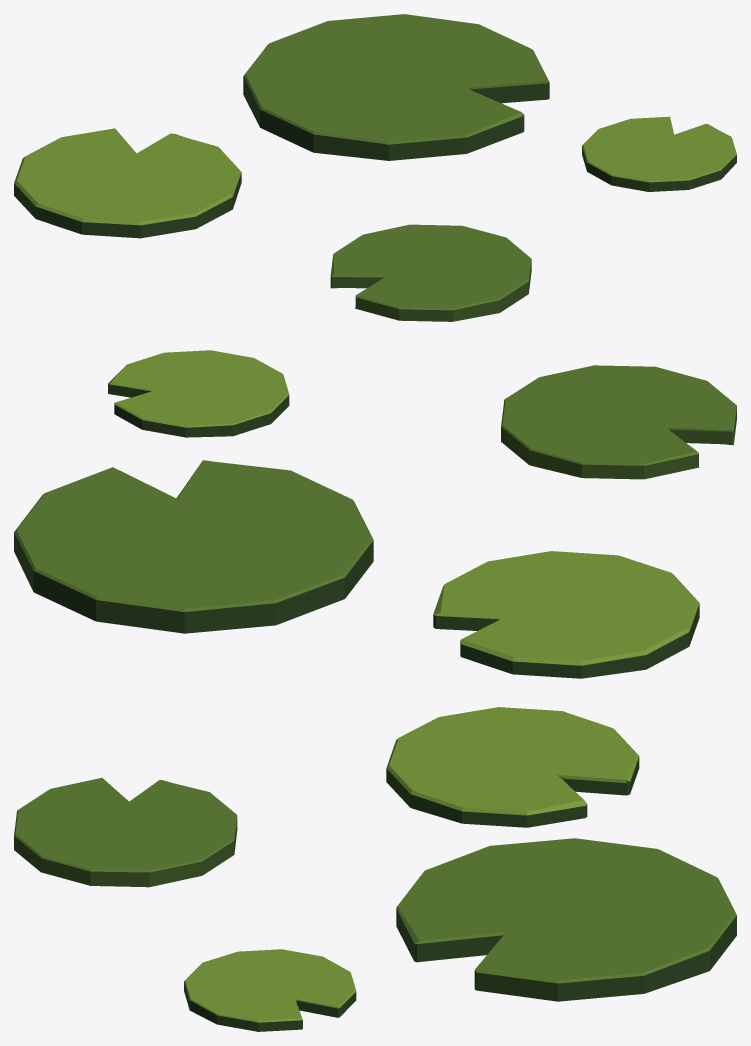
Rendered from Nénuphare_V2fbx.fbx.
3 views of the same model, one above another, from view 1: azimuth 30°, elevation 25°; view 2: azimuth 150°, elevation 25°; view 3: azimuth 270°, elevation 25° (orthographic). The views are drawn at different scales.
Visible parts, largest first — view 1: Cylinder.006; view 2: Cylinder.006; view 3: Cylinder.006.
Boxes of the visible parts, x1,y1,x2,y2 form: Cylinder.006: (14,14,736,321); Cylinder.006: (14,350,736,678); Cylinder.006: (14,707,736,1031).
Size of the model in its own units: 443 by 17 by 424.
